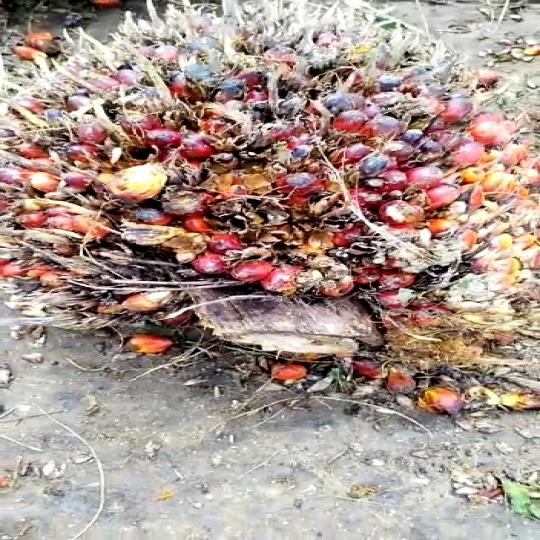masak: (0, 0, 540, 439)
